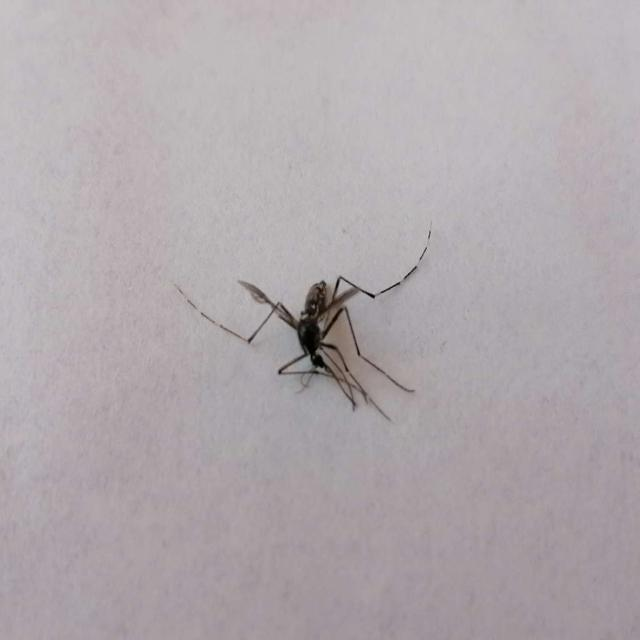albopictus: (182, 210, 434, 420)
